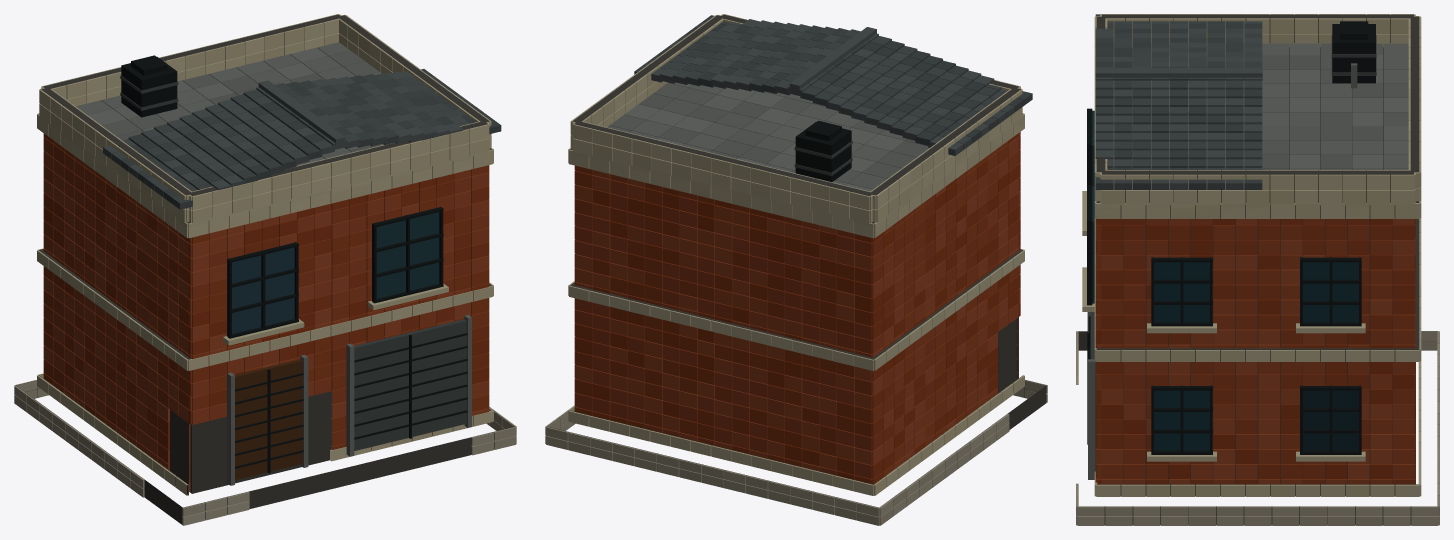
Rendered from SM_StreetFrontage_032.fbx.
The picture shows the model from 3 angles, left to right: view 1: azimuth 30°, elevation 25°; view 2: azimuth 150°, elevation 25°; view 3: azimuth 270°, elevation 25°; orthographic projection. The views are drawn at different scales.
Parts seen in each view (by area): view 1: SM_StreetFrontage_032; view 2: SM_StreetFrontage_032; view 3: SM_StreetFrontage_032.
Part boxes in pixels (left/top/right/bottom): SM_StreetFrontage_032: left=14, top=14, right=516, bottom=525; SM_StreetFrontage_032: left=545, top=14, right=1047, bottom=525; SM_StreetFrontage_032: left=1076, top=14, right=1439, bottom=525.
Bounding box in the file's own units: 8 × 6.97 × 7.88.
